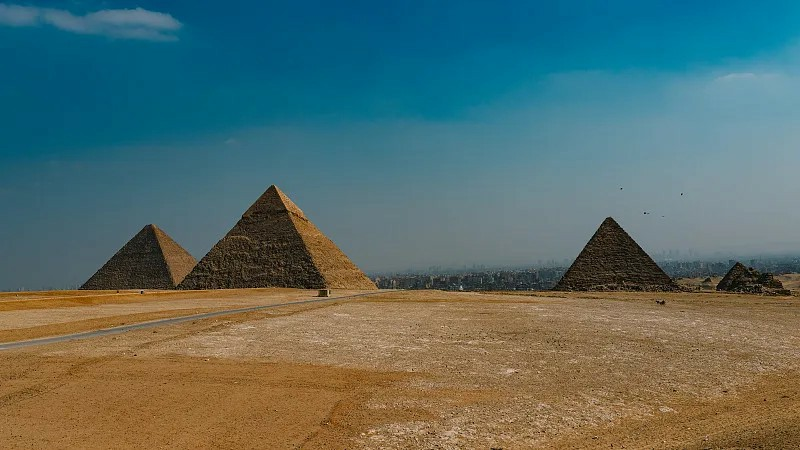Pyramid: (175, 185, 377, 291), (555, 219, 681, 293), (81, 224, 198, 290)
